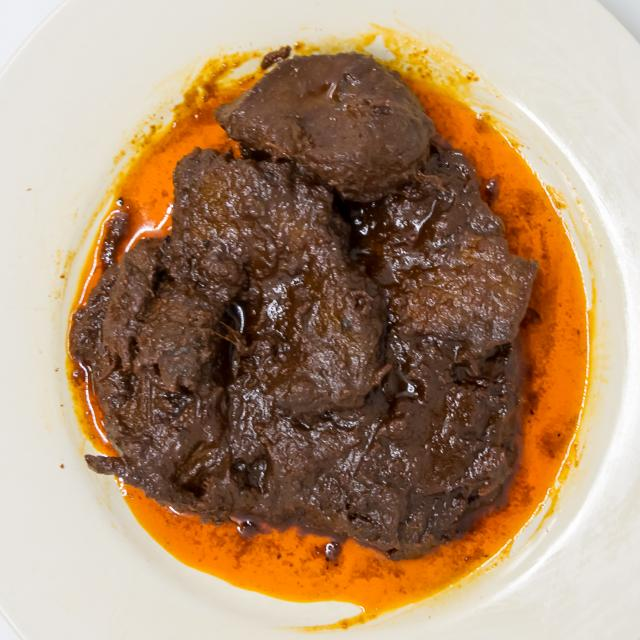Rendang: (68, 46, 546, 573)
